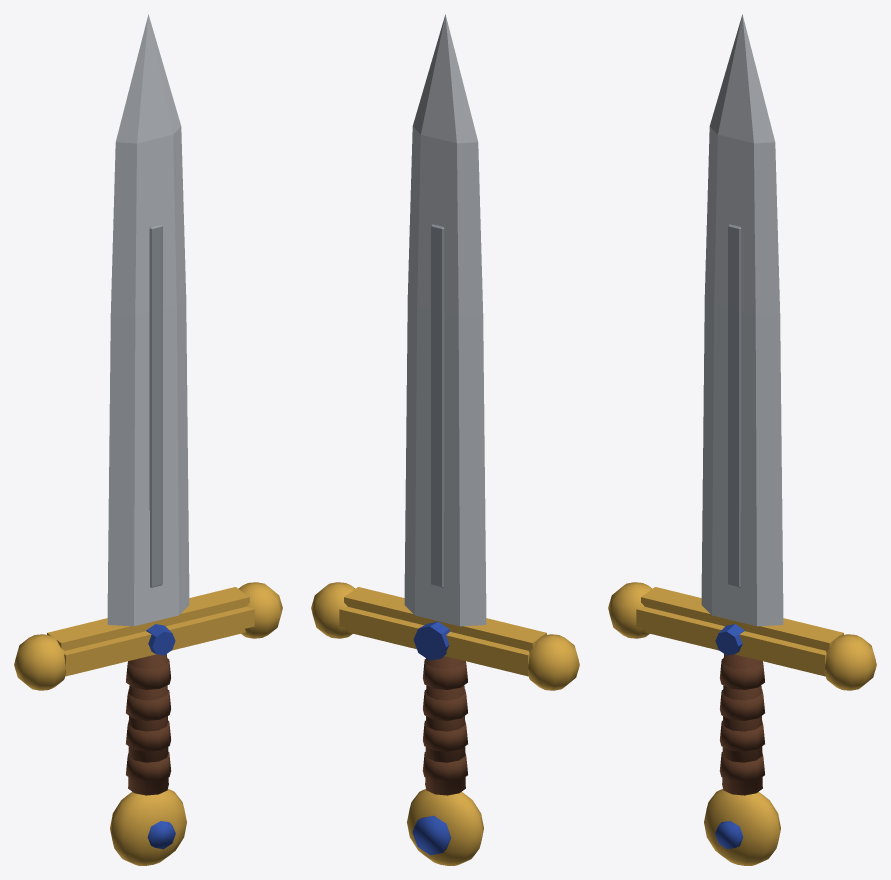
Rendered from warden-sword.glb.
3 renders of one model, left to right at view 1: azimuth 30°, elevation 25°; view 2: azimuth 150°, elevation 25°; view 3: azimuth 330°, elevation 25°, orthographic.
Visible parts, largest first — view 1: warden-sword; view 2: warden-sword; view 3: warden-sword.
Part boxes in pixels (x1,y1,x2,y2): warden-sword: (14, 14, 282, 865); warden-sword: (311, 14, 579, 865); warden-sword: (608, 14, 876, 865).
Bounding box in the file's own units: 0.317 × 0.99 × 0.066.
